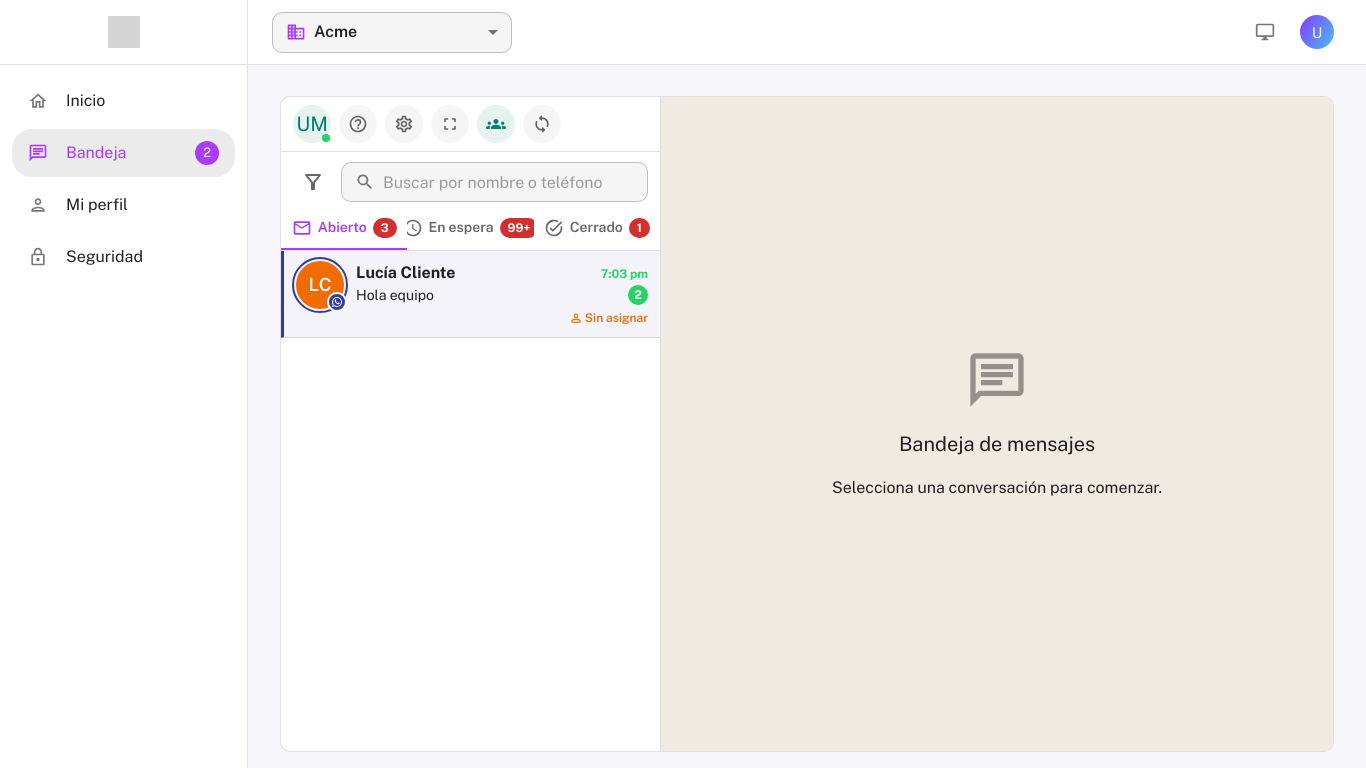
Inbox › shows only the alerts to agents in the settings modal
Click the button named "Configuración del módulo de chat".
click(404, 124)  # box x1=385 y1=105 x2=423 y2=143
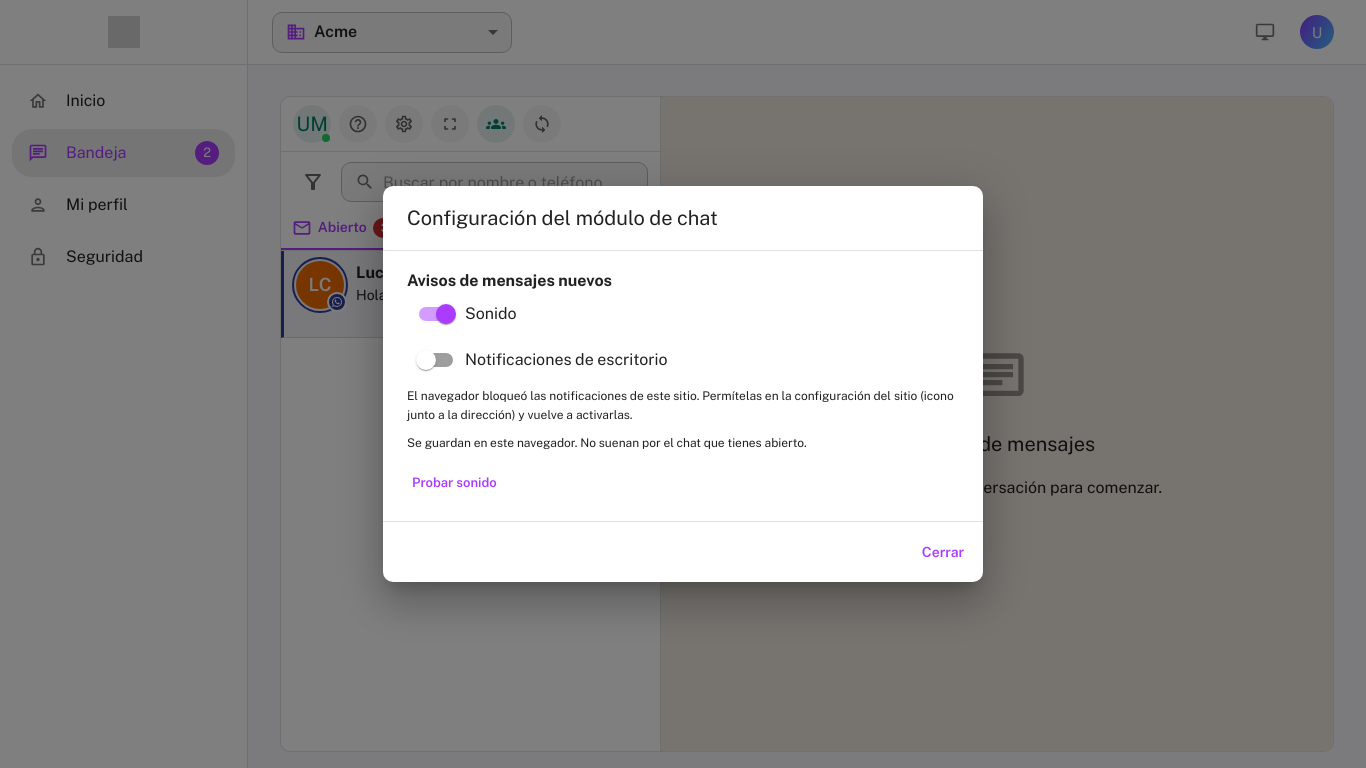
Result: the switch labelled "Sonido" is shown at x1=419 y1=304 x2=517 y2=324
